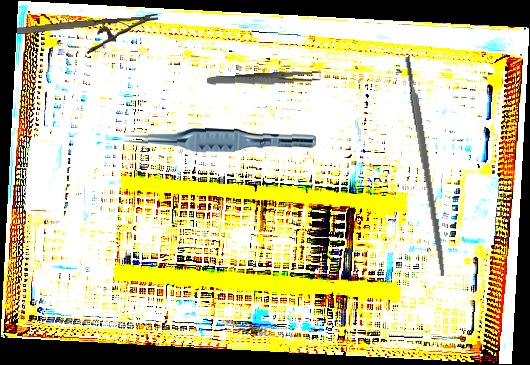Dressing Forceps: (206, 70, 322, 88)
Needle Holder: (16, 13, 161, 59)
Scalpel Handle: (403, 55, 449, 277)
Tissue Forceps: (123, 122, 317, 156)
